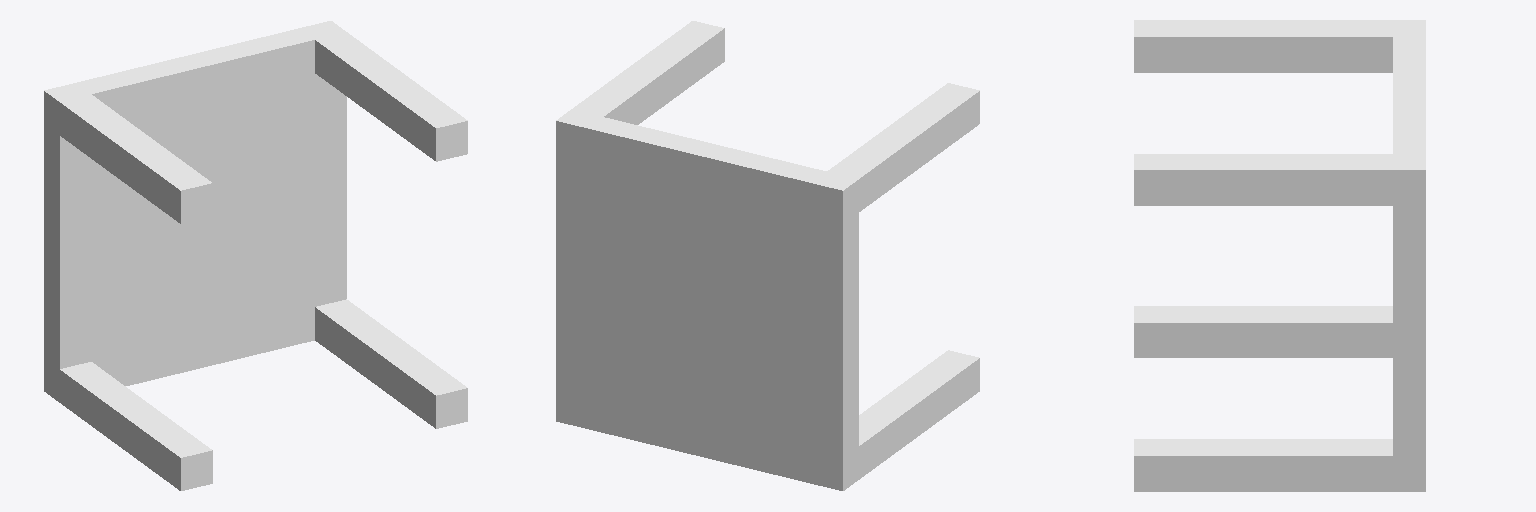
URDF robot description (objects/table.obj):
<robot name="objects/table.obj">
	<link name="_name">
		<visual>
			<origin xyz="0.0 0.2277232289714348 0.0" rpy="0.0 0.0 0.0" />
			<geometry>
				<mesh filename="objects/table.obj" scale="1 1 1" />
			</geometry>
			<material name="texture">
				<color rgba="1.0 1.0 1.0 1.0" />
			</material>
		</visual>
		<collision>
			<origin xyz="0.0 0.2277232289714348 0.0" rpy="0.0 0.0 0.0" />
			<geometry>
				<mesh filename="objects/table_vhacd.obj" scale="1 1 1" />
			</geometry>
		</collision>
		<inertial>
			<mass value="1.0" />
			<inertia ixx="1.0" ixy="0.0" ixz="0.0" iyy="1.0" iyz="0.0" izz="1.0" />
		</inertial>
	</link>
</robot>

--- Render facts (derived) ---
3 views of the same robot in one strip: view 1: azimuth 30°, elevation 25°; view 2: azimuth 150°, elevation 25°; view 3: azimuth 270°, elevation 25° (orthographic).
Model objects/table.obj with 1 links and 0 joints (none), rooted at _name, posed all joints at 0.
Links seen in each view (by area): view 1: _name; view 2: _name; view 3: _name.
Link boxes in pixels (left/top/right/bottom): _name: left=44, top=21, right=467, bottom=490; _name: left=556, top=21, right=979, bottom=490; _name: left=1134, top=20, right=1425, bottom=491.
Bounding box of the posed robot: 2 × 1.65 × 2 m (x, y, z).
1 mesh visuals loaded from 1 distinct referenced files (1 OBJ).